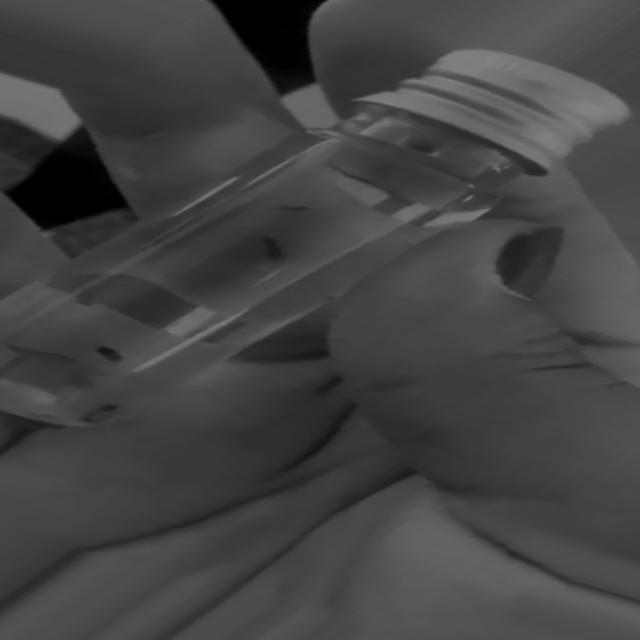larvas: (11, 339, 72, 361), (84, 400, 116, 423), (0, 358, 21, 381), (98, 343, 121, 362), (264, 234, 280, 259), (277, 204, 307, 212)
